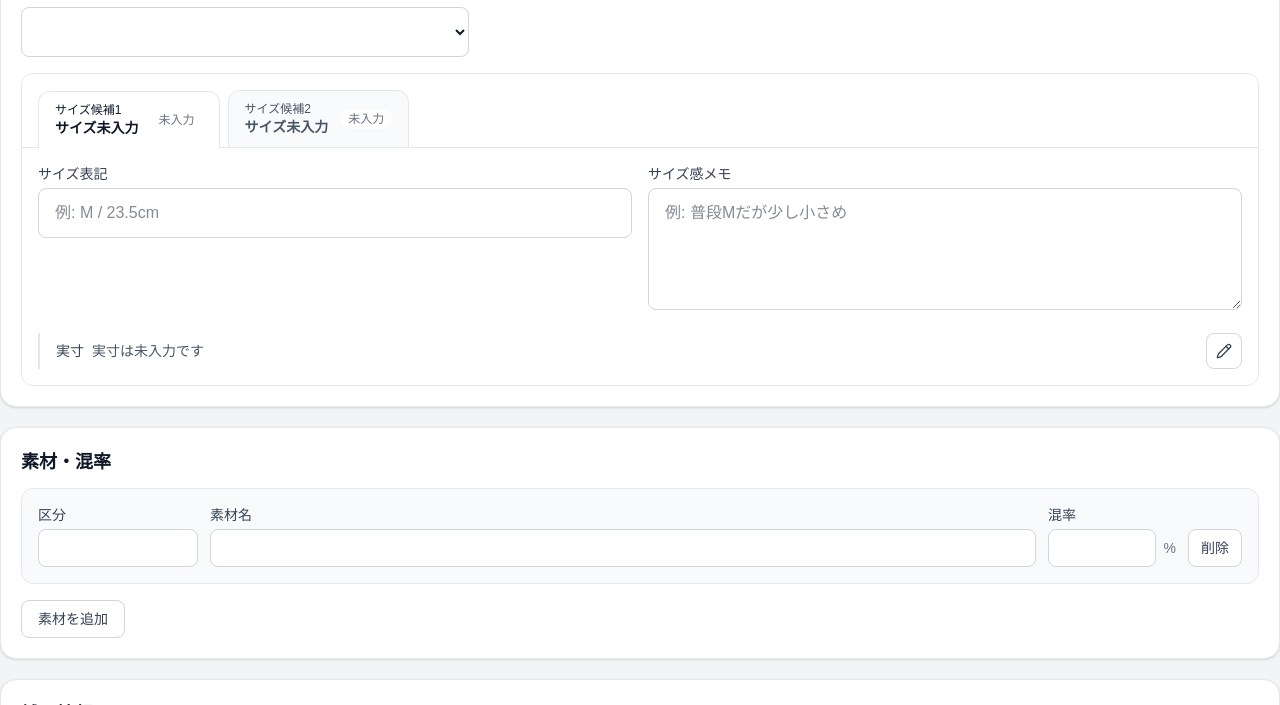
Test case: 購入検討フォーム › 初期状態では実寸本体を閉じ、開くと fallback を表示する
(page scrolled)
Expected: the text "自由項目を追加" is not shown
Expected: the text "現在のカテゴリと形に対応する固定実寸はありません。必要なら自由項目を追加してください。" is not shown
Click the button named "実寸を編集". click: point(1224, 351)
box: [1206,333,1242,369]
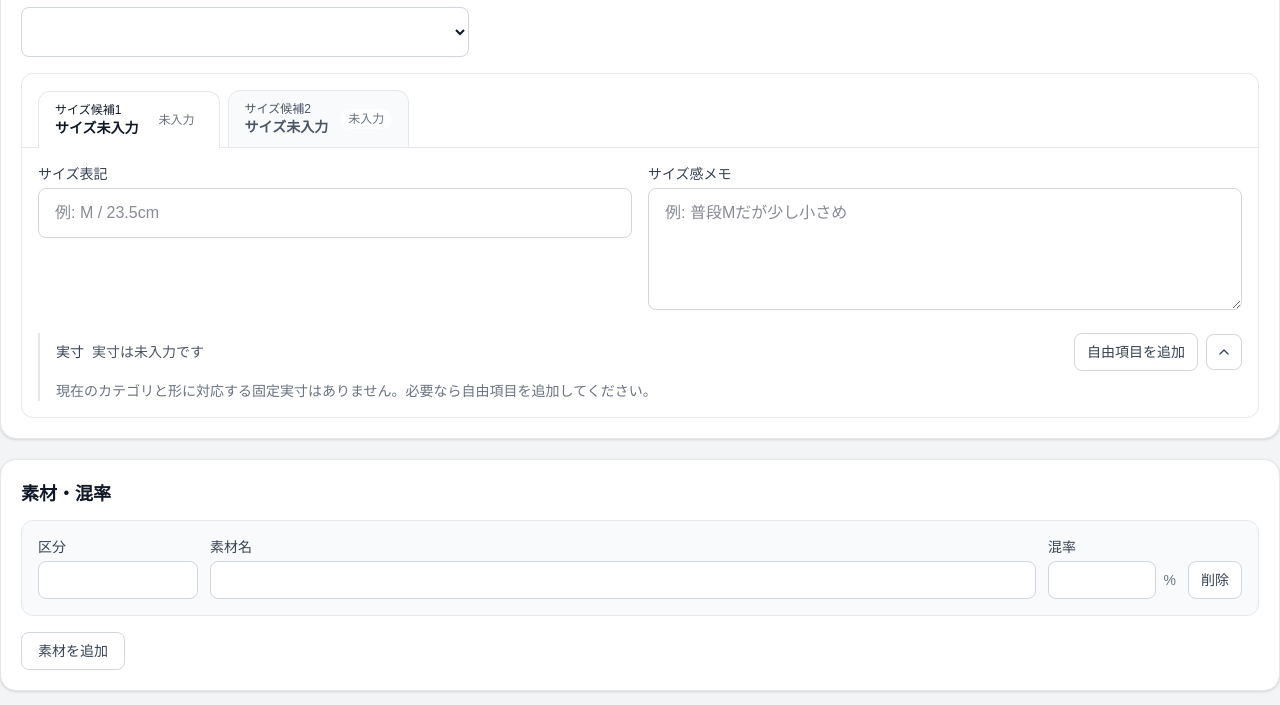
Now the text "自由項目を追加" is shown, box [1074,333,1198,371]
Now the text "現在のカテゴリと形に対応する固定実寸はありません。必要なら自由項目を追加してください。" is shown, box [56,383,657,399]
